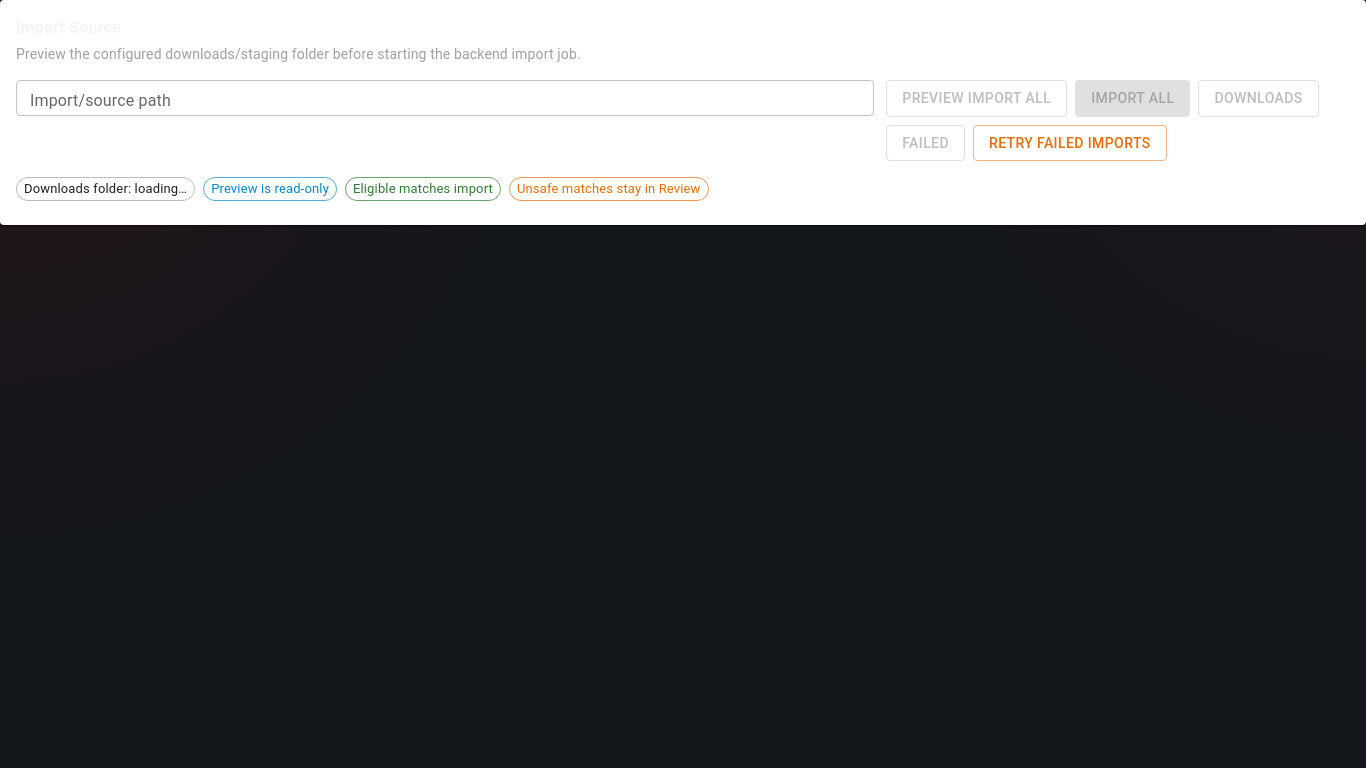
Test: Intake: retry and recover actions confirm first › Retry failed imports: a status error is shown and nothing is retried
The width and height of the screenshot is (1366, 768).
Click the button "Retry failed imports" at (1070, 143), box [973,124,1167,161]
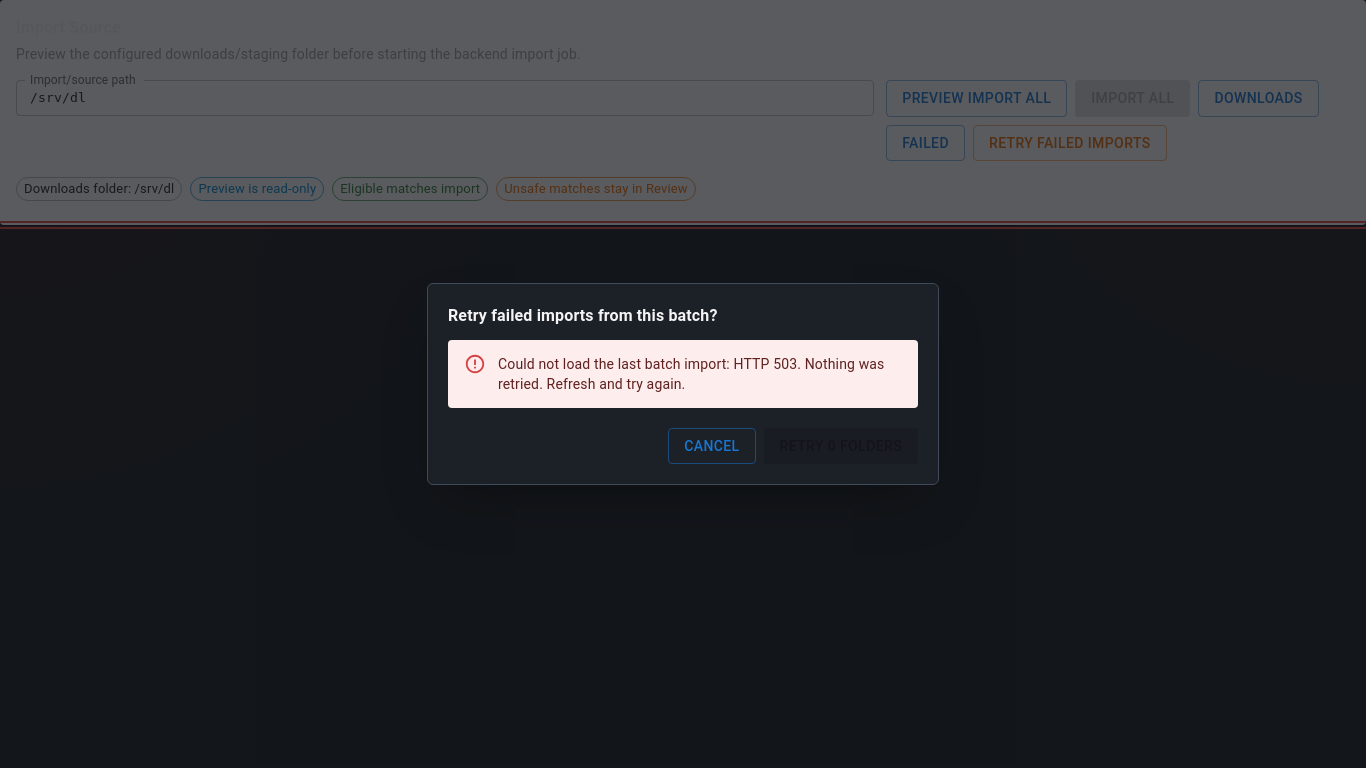
Expected: the text "Could not load the last batch import: HTTP 503. Nothing was retried" is shown, [498,346,902,402]
